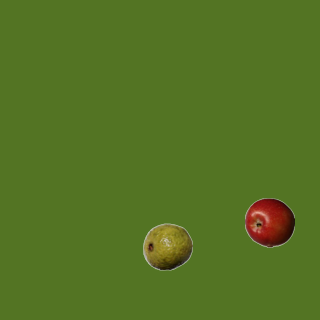Apple Braeburn: (244, 197, 294, 247)
Guava: (142, 221, 192, 271)
